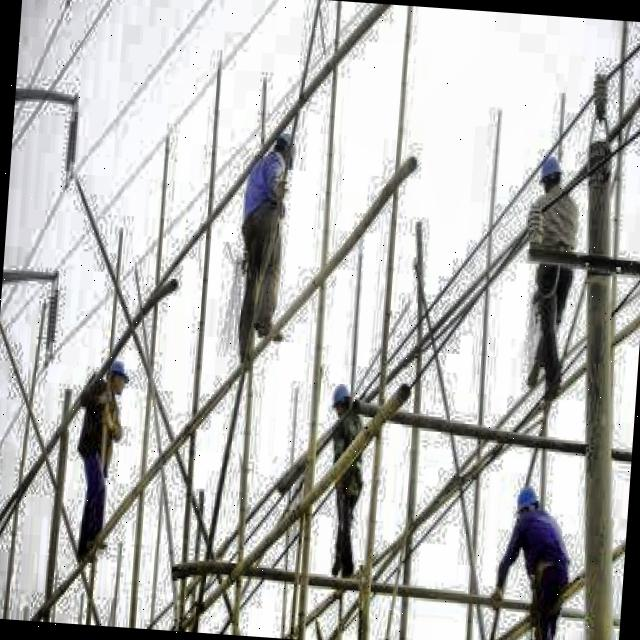helmet: (534, 150, 566, 200), (510, 482, 542, 524), (268, 130, 300, 172), (327, 376, 353, 427), (103, 355, 131, 400)
